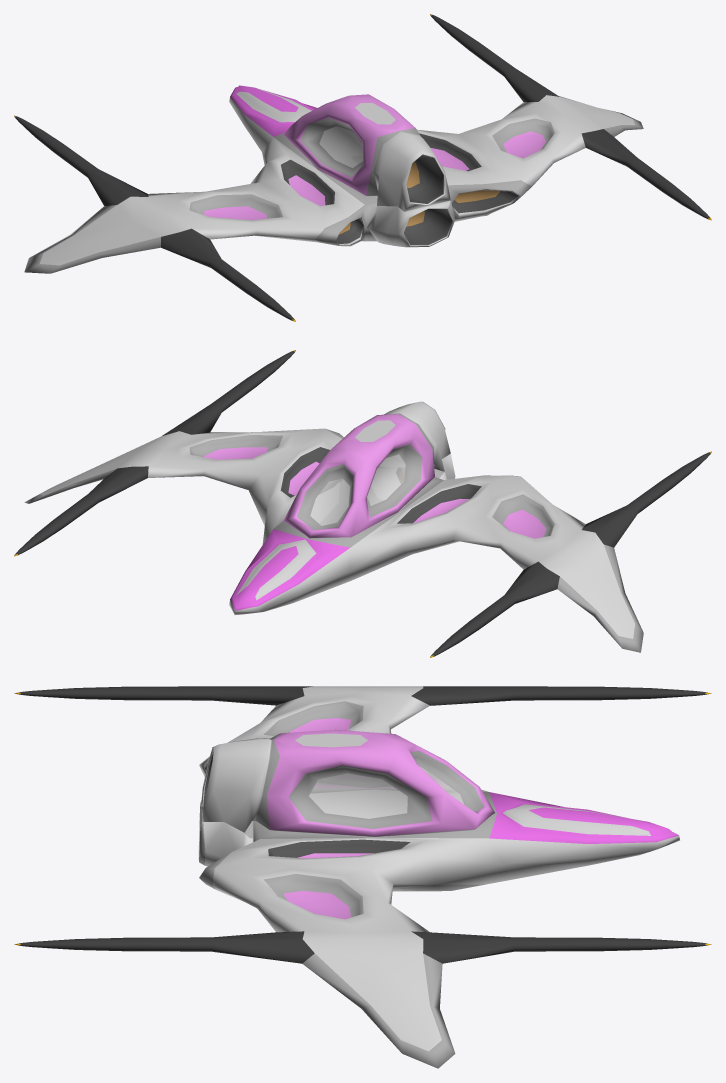
The model's file is pinkship_smooth.fbx.
3 views of the same model, one above another, from view 1: azimuth 30°, elevation 25°; view 2: azimuth 150°, elevation 25°; view 3: azimuth 270°, elevation 25° (orthographic). The views are drawn at different scales.
Parts seen in each view (by area): view 1: pinkship_smooth; view 2: pinkship_smooth; view 3: pinkship_smooth.
Part boxes in pixels (x1=…): pinkship_smooth: x1=14, y1=14, x2=711, y2=321; pinkship_smooth: x1=14, y1=350, x2=711, y2=657; pinkship_smooth: x1=14, y1=686, x2=711, y2=1068.
Bounding box in the file's own units: 40.19 × 7.2 × 31.84.
